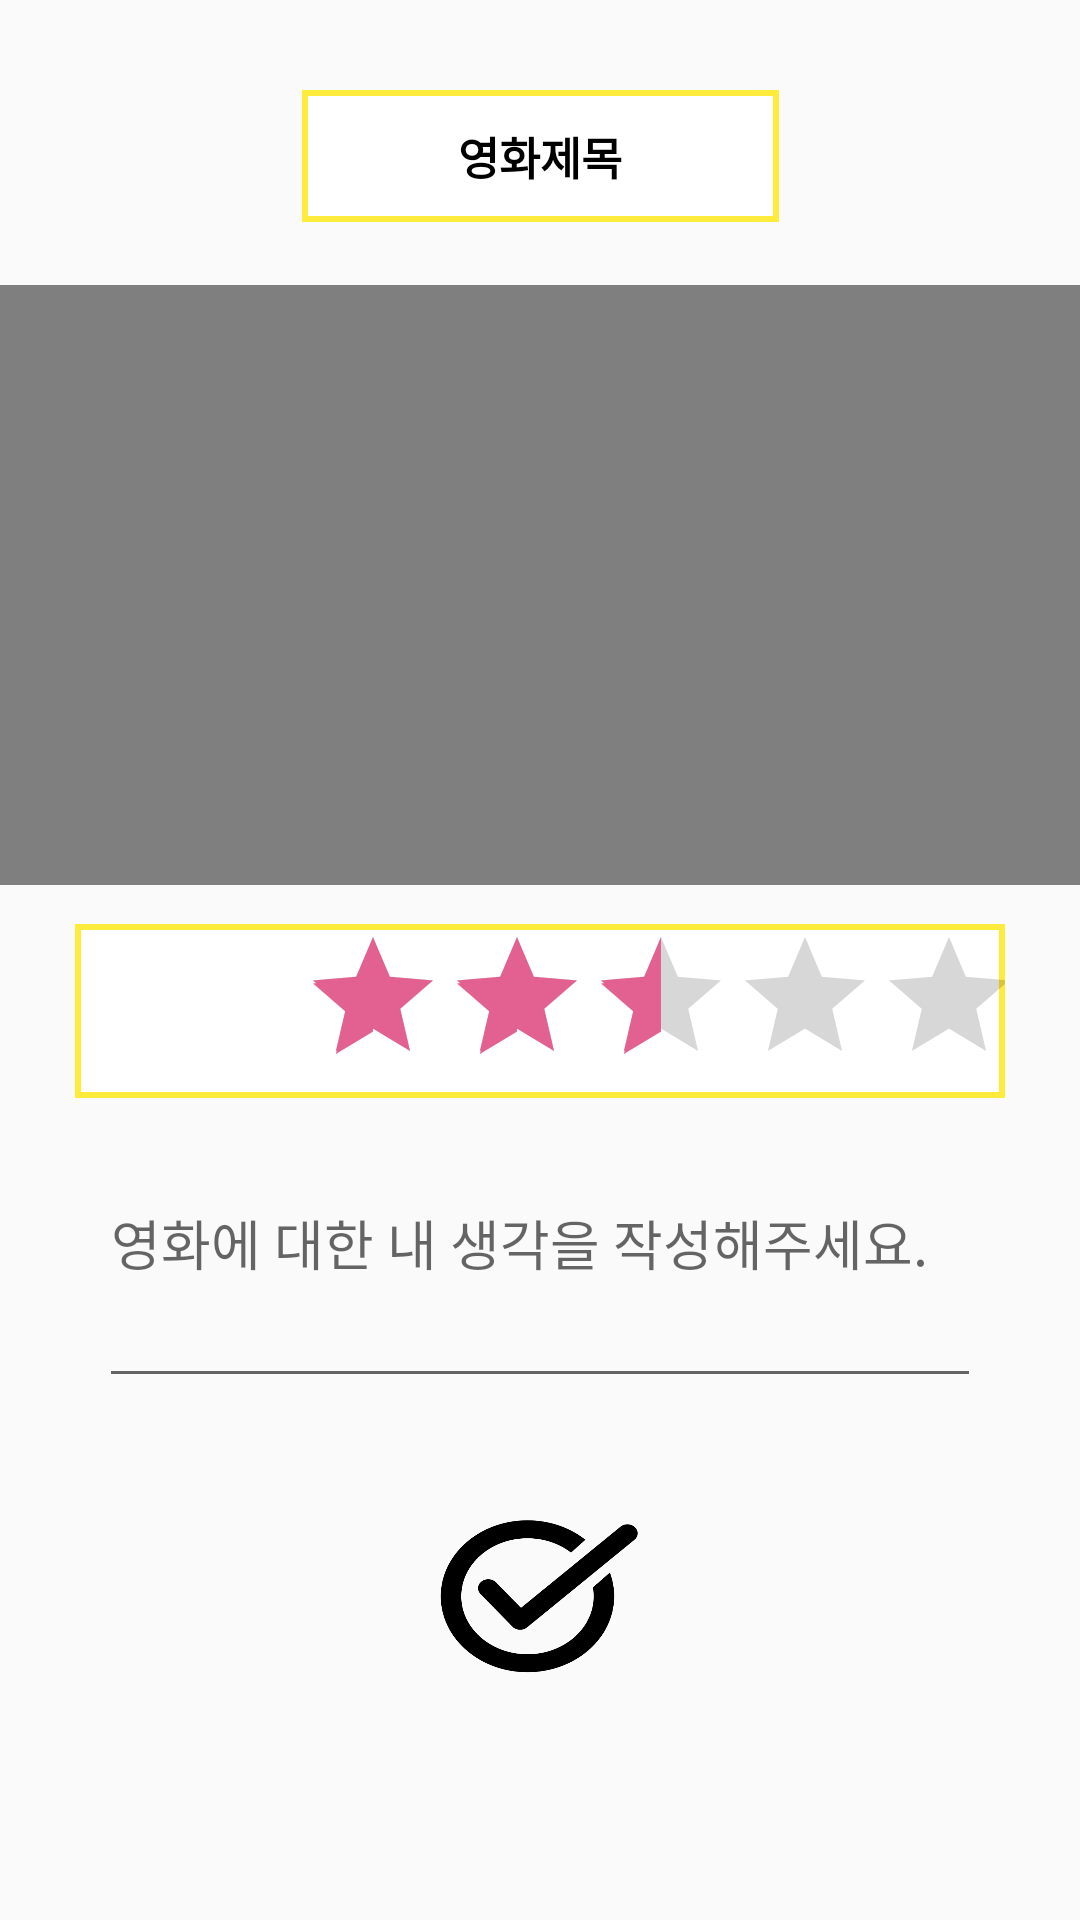

Icons on this 1080px x 1920px Android screen, each with its box as region(x1, y1, x2, y2):
check: region(440, 1520, 638, 1672)
